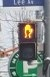stop: (18, 23, 37, 43)
